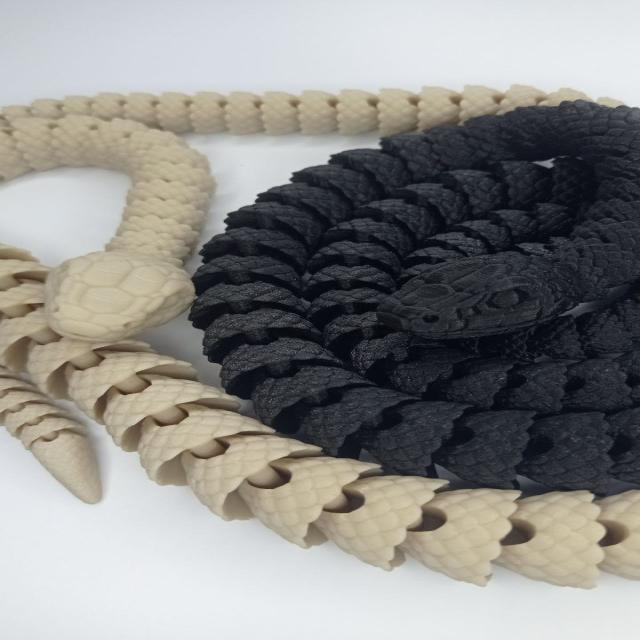Without deffect: (5, 71, 636, 595)
